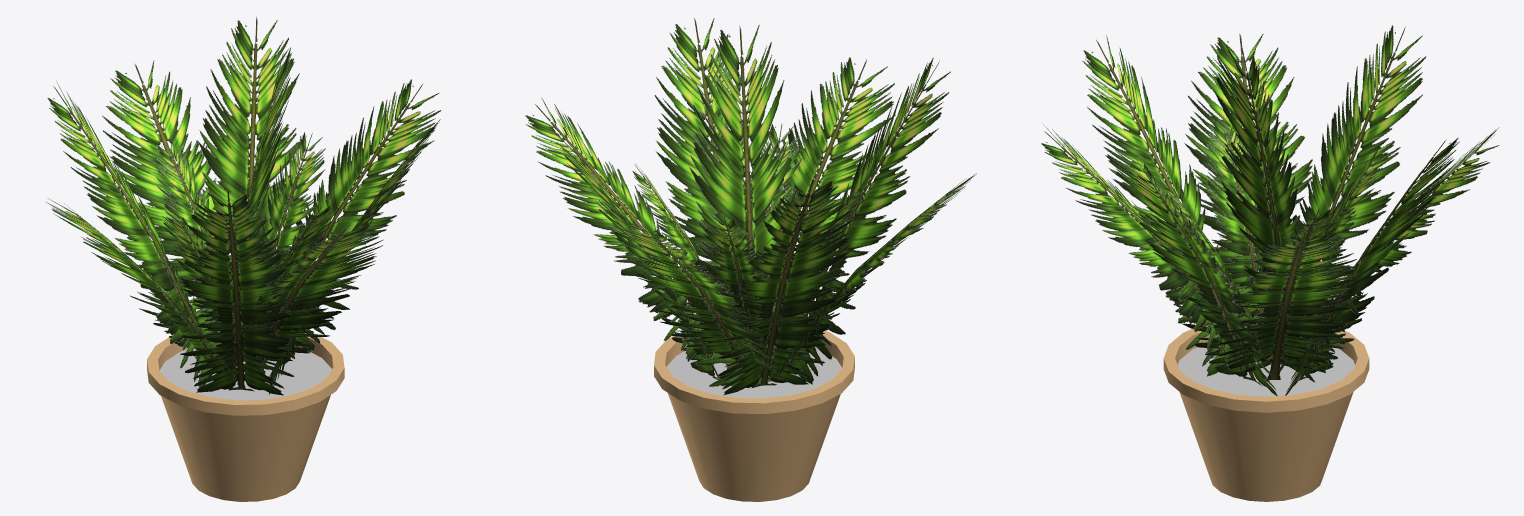
File: Plant.fbx
3 views of the same model, side by side, from view 1: azimuth 30°, elevation 25°; view 2: azimuth 150°, elevation 25°; view 3: azimuth 270°, elevation 25° (orthographic). The views are drawn at different scales.
Parts seen in each view (by area): view 1: polySurface11, pCylinder1; view 2: polySurface11, pCylinder1; view 3: polySurface11, pCylinder1.
Boxes of the visible parts, x1,y1,x2,y2 form: polySurface11: [46, 16, 441, 395]; pCylinder1: [147, 331, 344, 501]; polySurface11: [525, 18, 976, 395]; pCylinder1: [654, 330, 854, 501]; polySurface11: [1041, 25, 1499, 395]; pCylinder1: [1163, 324, 1369, 501].
Bounding box in the file's own units: 14.7 × 14.24 × 13.81.
